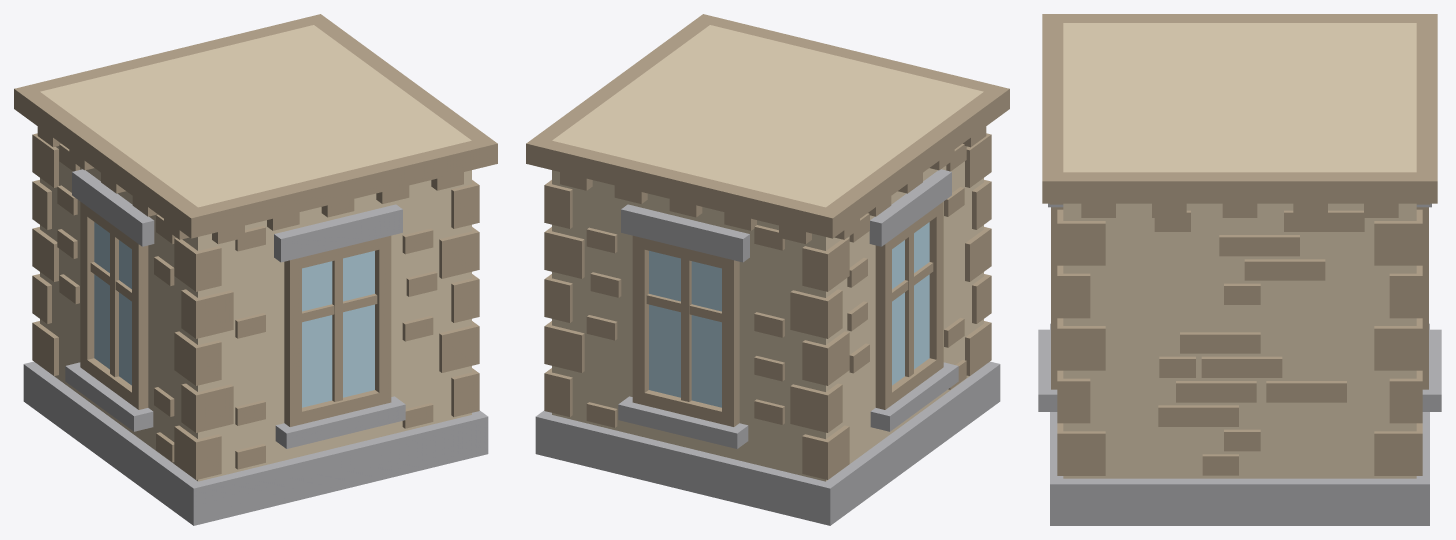
The model's file is building.smallbrickroom.glb.
The picture shows the model from 3 angles, left to right: view 1: azimuth 30°, elevation 25°; view 2: azimuth 150°, elevation 25°; view 3: azimuth 270°, elevation 25°; orthographic projection. The views are drawn at different scales.
Visible parts, largest first — view 1: Paint, PaintDark, Stone, Glass; view 2: Paint, PaintDark, Stone, Glass; view 3: Paint, PaintDark, Stone.
Part boxes in pixels (x1,y1,x2,y2): Paint: (40,25,471,481); PaintDark: (14,14,497,479); Stone: (23,169,488,525); Glass: (94,222,374,407); Paint: (552,25,983,481); PaintDark: (526,14,1009,479); Stone: (535,169,1000,525); Glass: (649,222,929,407); Paint: (1063,23,1416,478); PaintDark: (1042,14,1437,475); Stone: (1038,203,1441,525).
Bounding box in the file's own units: 1.04 × 1 × 1.05.
